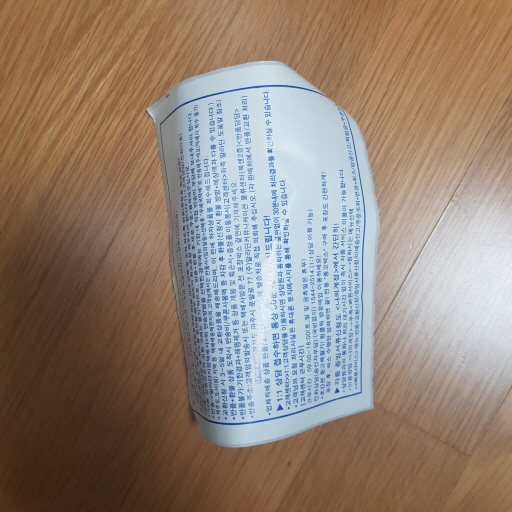Paper_2: (130, 58, 390, 449)
